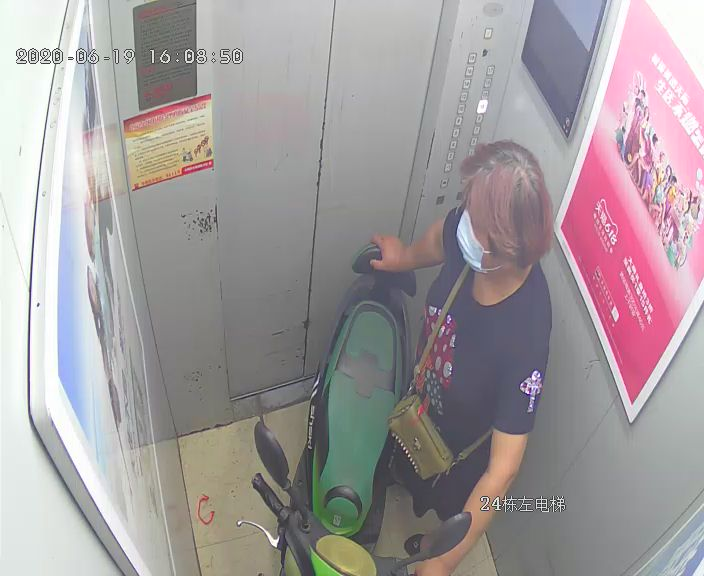Electric-bicycle: (241, 245, 471, 576)
